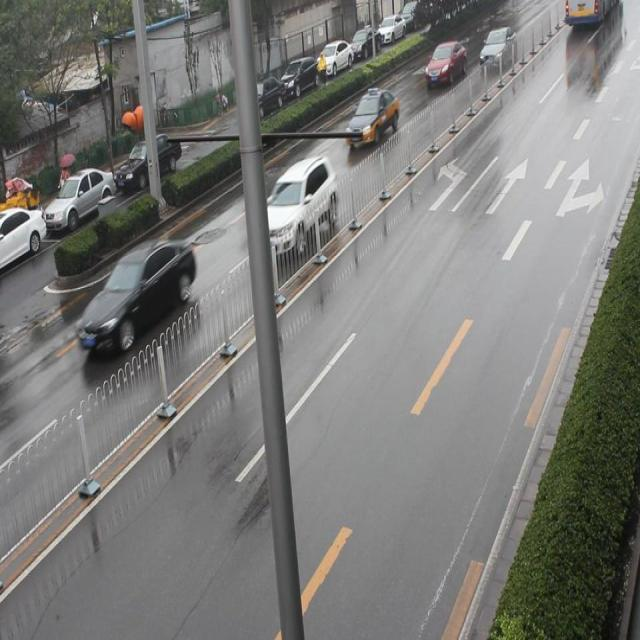car: (75, 235, 194, 375), (255, 153, 340, 258), (345, 84, 399, 148), (424, 36, 465, 94), (478, 18, 517, 76)
